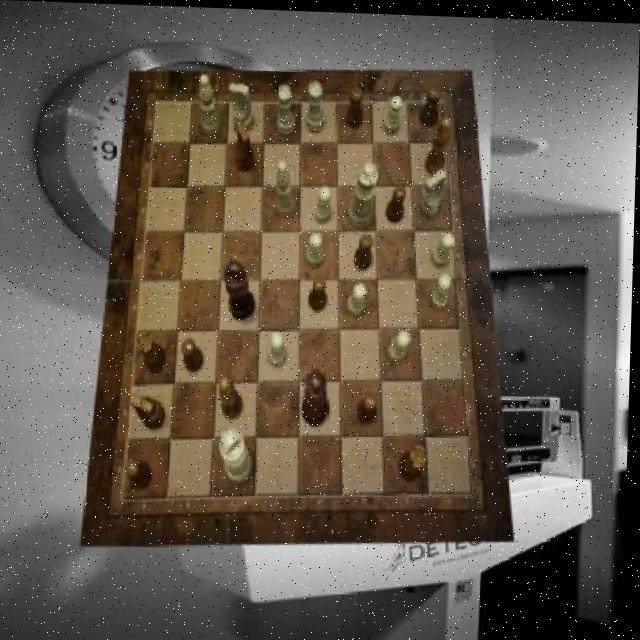bishop: (426, 114, 451, 173), (221, 374, 246, 418)
black-bishop: (225, 258, 260, 319)
black-king: (132, 392, 168, 429), (236, 118, 257, 171)
black-knight: (420, 83, 441, 125), (127, 458, 155, 489), (184, 336, 207, 371), (388, 182, 409, 220), (346, 84, 364, 126), (356, 229, 375, 267), (310, 274, 330, 309), (359, 389, 380, 422)
black-pawn: (303, 366, 331, 425)
black-queen: (139, 331, 170, 373), (402, 441, 430, 480)
black-rook: (200, 74, 224, 136), (277, 157, 298, 216)
white-bishop: (221, 425, 256, 482)
white-king: (420, 166, 447, 216), (229, 81, 255, 130)
white-knight: (390, 327, 413, 362), (433, 230, 456, 265), (432, 271, 453, 308), (385, 93, 403, 132), (270, 330, 289, 366), (348, 281, 368, 315), (315, 185, 333, 221), (308, 231, 326, 266)
white-pawn: (349, 160, 381, 227)
white-queen: (277, 82, 298, 133), (307, 80, 327, 131)
